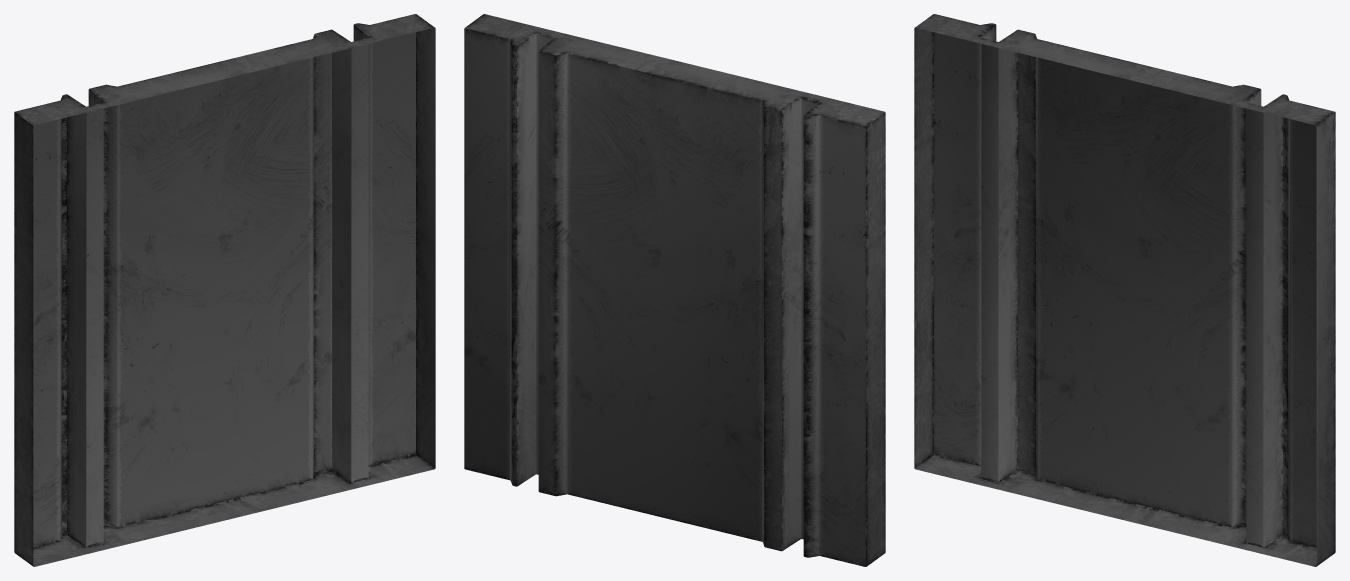
The model's file is platform_tracks.gltf.
3 views of the same model, side by side, from view 1: azimuth 30°, elevation 25°; view 2: azimuth 150°, elevation 25°; view 3: azimuth 330°, elevation 25° (orthographic).
Visible parts, largest first — view 1: platform_tracks; view 2: platform_tracks; view 3: platform_tracks.
Boxes of the visible parts, x1,y1,x2,y2 form: platform_tracks: (14,14,435,566); platform_tracks: (464,14,885,566); platform_tracks: (914,14,1335,566).
Size of the model in its own units: 1.91 by 2 by 0.2.
Materials: 1 (1 with a texture image).
